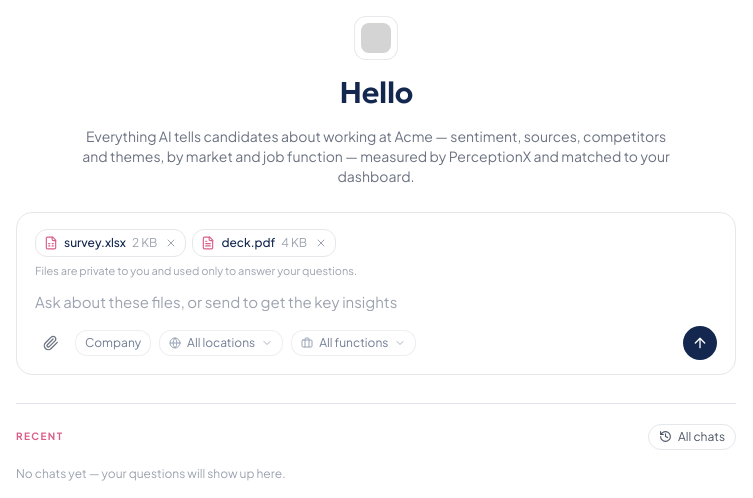
Test: new-chat composer with files › attaches, removes and sends files; an empty question asks for the key insights
Earlier steps of the test are not shown.
Check: the text "survey.xlsx" is shown, box [64,234,126,252]
Check: the text "Files are private to you and used only to answer your questions." is shown, box [35,264,357,276]
Click the button named "Remove deck.pdf": (321, 242) [313,234,329,250]
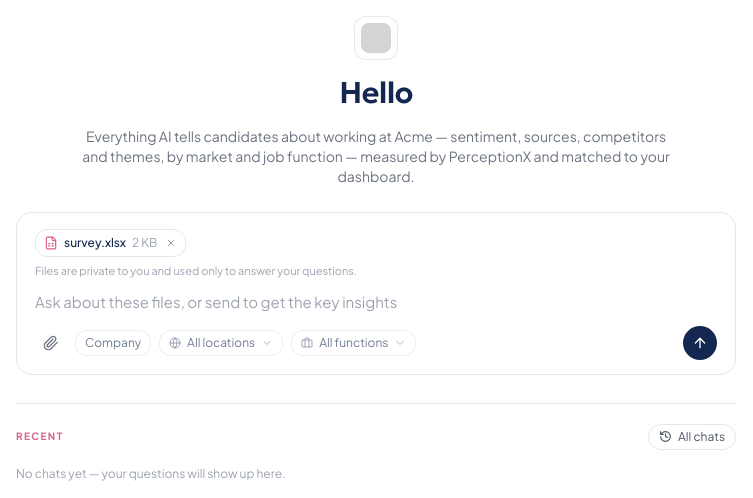
Check: the text "deck.pdf" is gone
Click the button named "Send": (700, 342) [683,326,717,360]
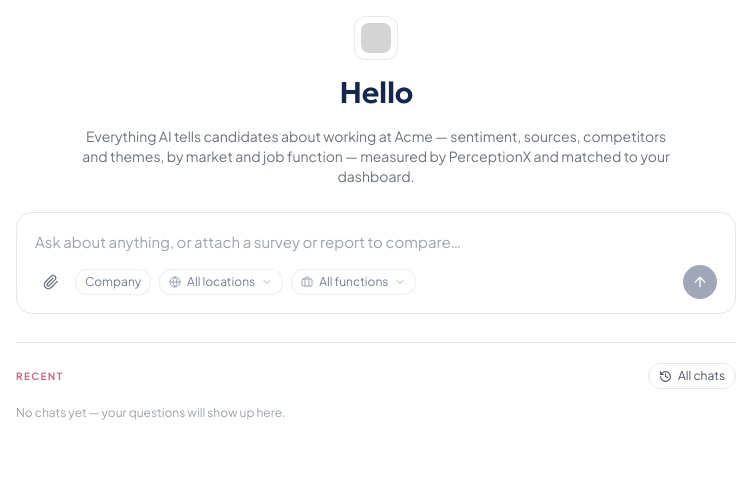
Check: the text "survey.xlsx" is gone
